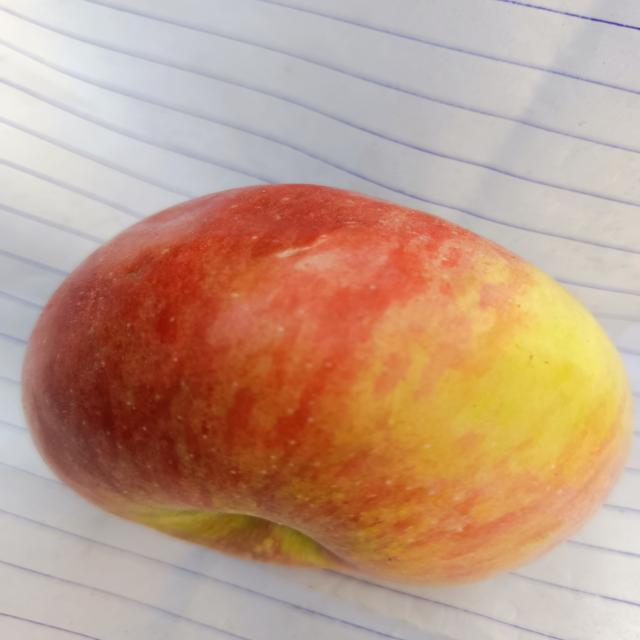Fresh Apple: (16, 170, 640, 579)
